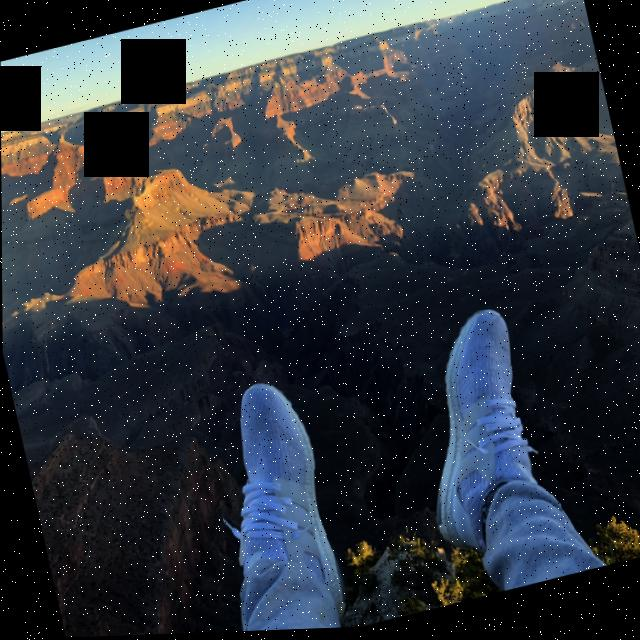shoe: (389, 299, 566, 572), (193, 368, 359, 634)
